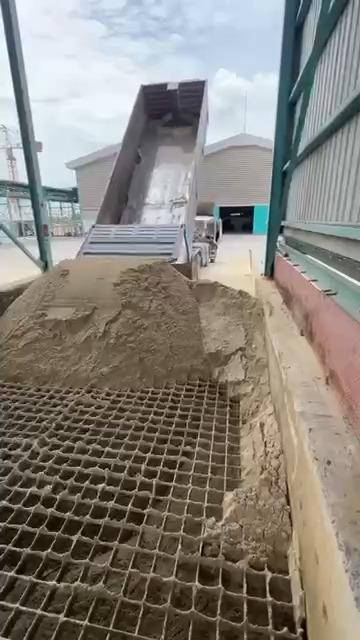sand: (0, 257, 290, 570)
